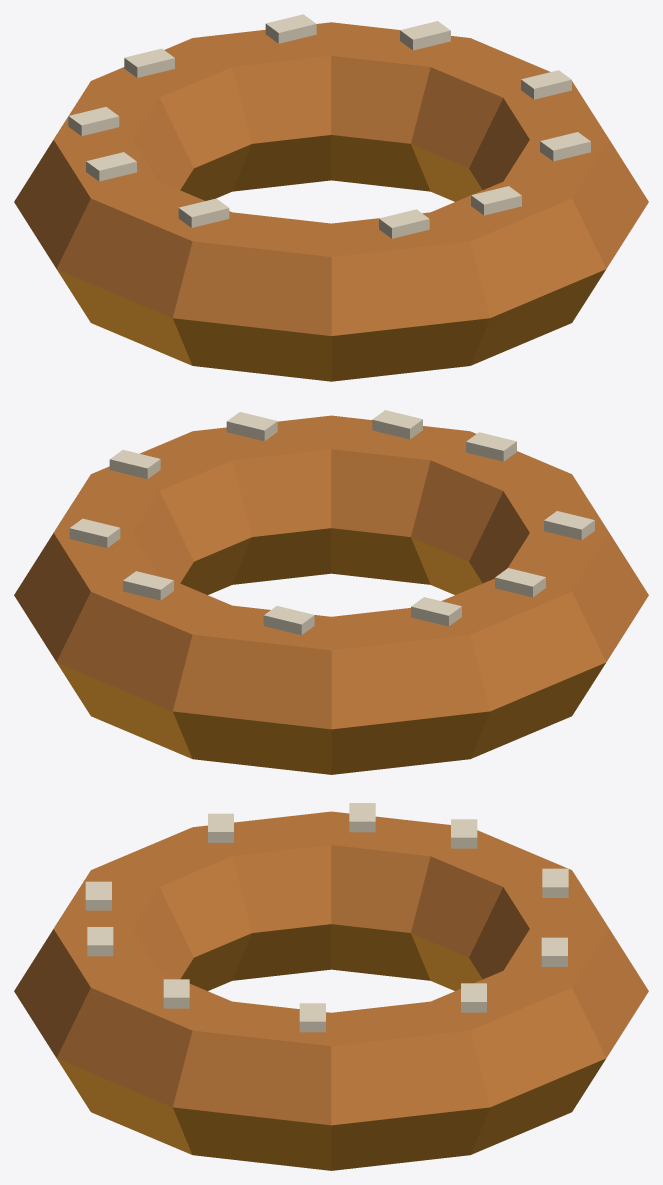
File: J_Simit.fbx
The picture shows the model from 3 angles, top to bottom: view 1: azimuth 30°, elevation 25°; view 2: azimuth 150°, elevation 25°; view 3: azimuth 270°, elevation 25°; orthographic projection.
Parts seen in each view (by area): view 1: J_Simit; view 2: J_Simit; view 3: J_Simit.
Part boxes in pixels (<box>): J_Simit: <box>14,14,648,381</box>; J_Simit: <box>14,410,648,774</box>; J_Simit: <box>14,803,648,1170</box>.
Bounding box in the file's own units: 0.64 × 0.1573 × 0.64.
